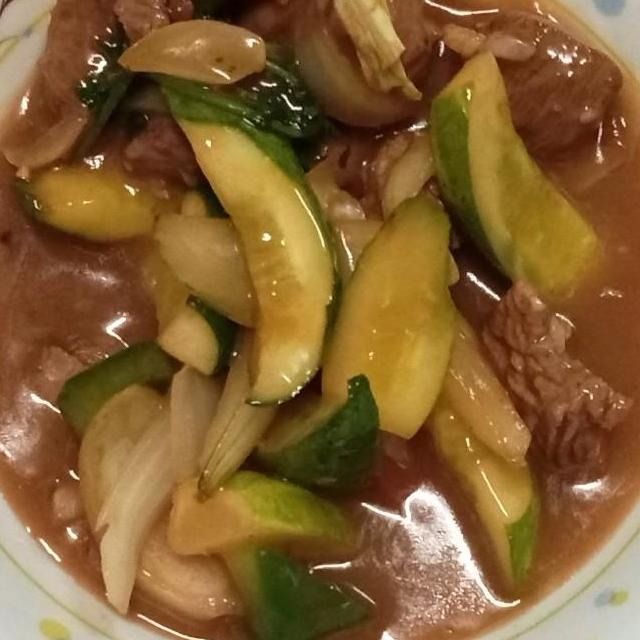thit bo: (471, 271, 640, 491), (12, 0, 204, 170), (437, 2, 631, 165)
